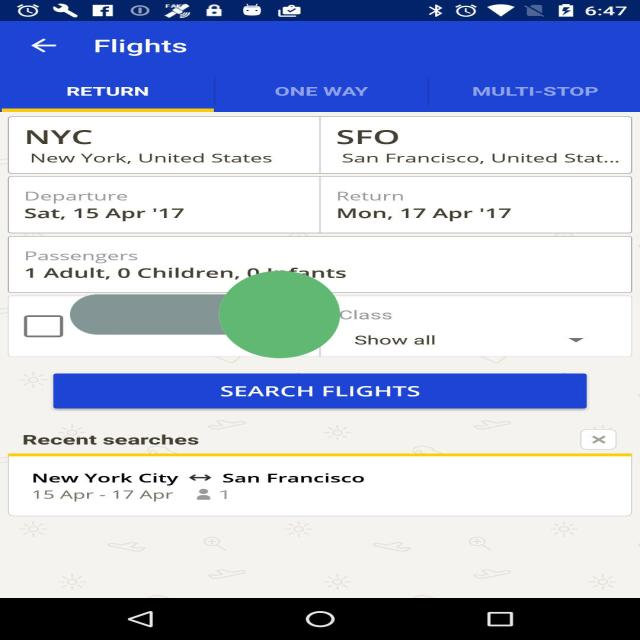social proof: (70, 217, 340, 412)
